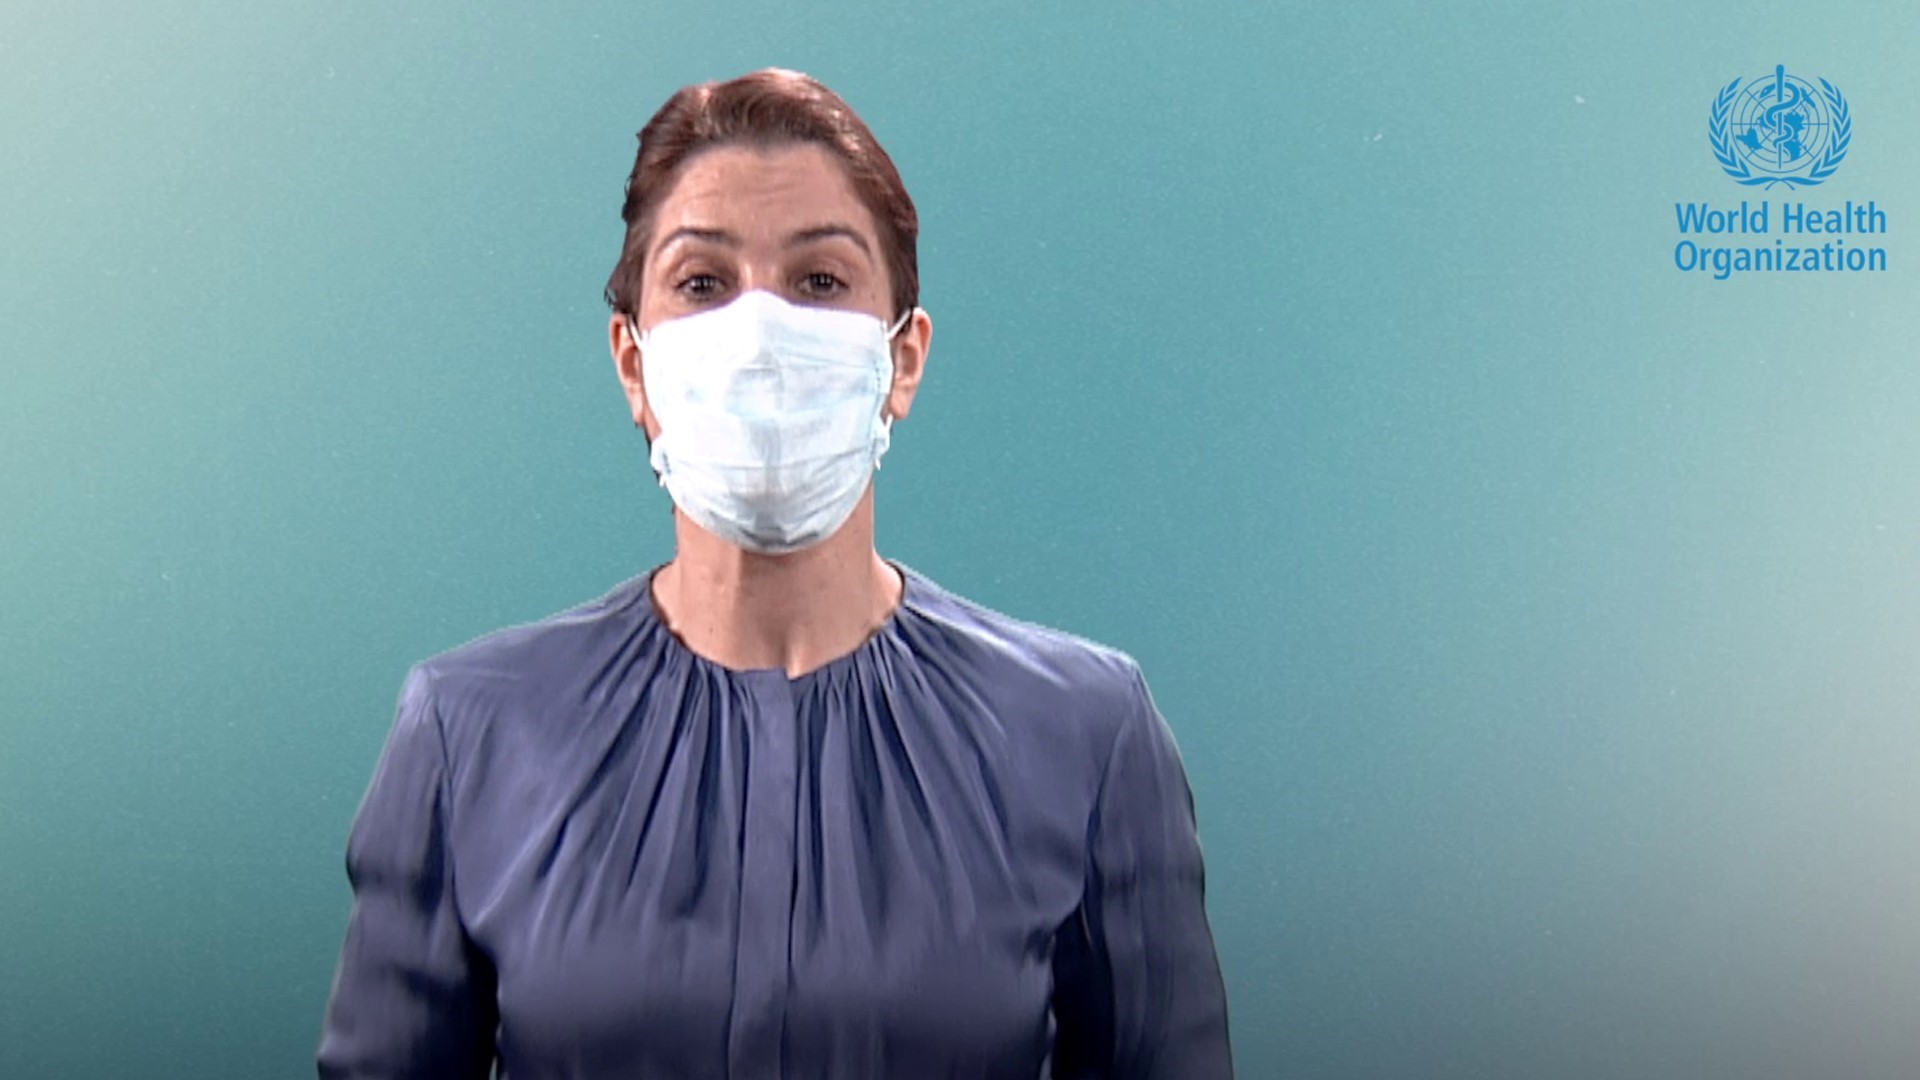with_mask: (578, 119, 960, 583)
